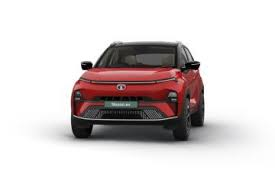Tata Nexon: (70, 39, 204, 143)
